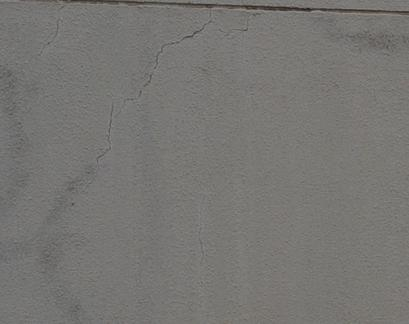fissura: (90, 8, 268, 188), (37, 1, 74, 65)
